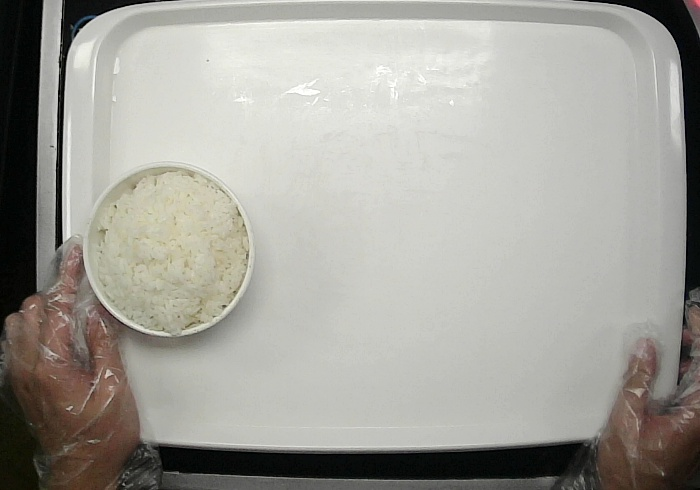HZYJPL-Fan_Wan: (83, 162, 253, 337)
